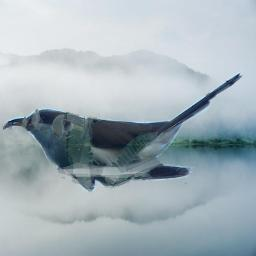Cuckoo: (3, 70, 250, 193)
